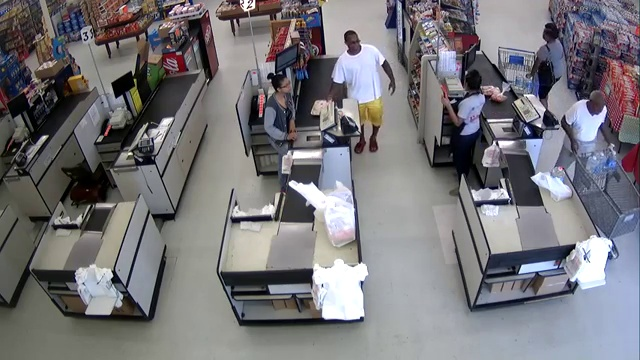face: (278, 79, 291, 94), (592, 97, 604, 113), (348, 36, 359, 50)
